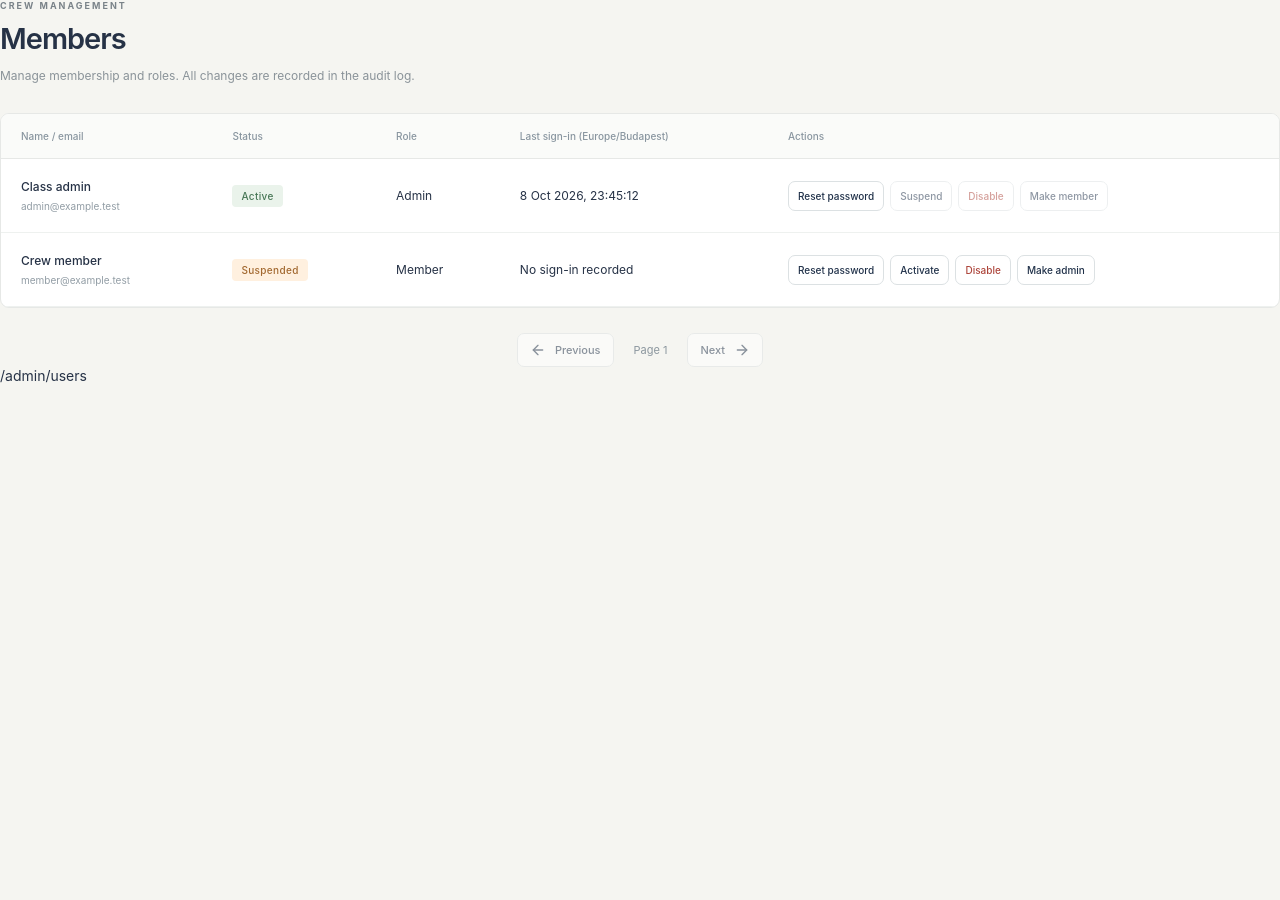
Test: Admin member credentials and sign-in history › does not submit invalid passwords (Test-only-new-password)
Click the button "Reset password" in the row of "Crew member" at (836, 270), box [788,255,884,285]
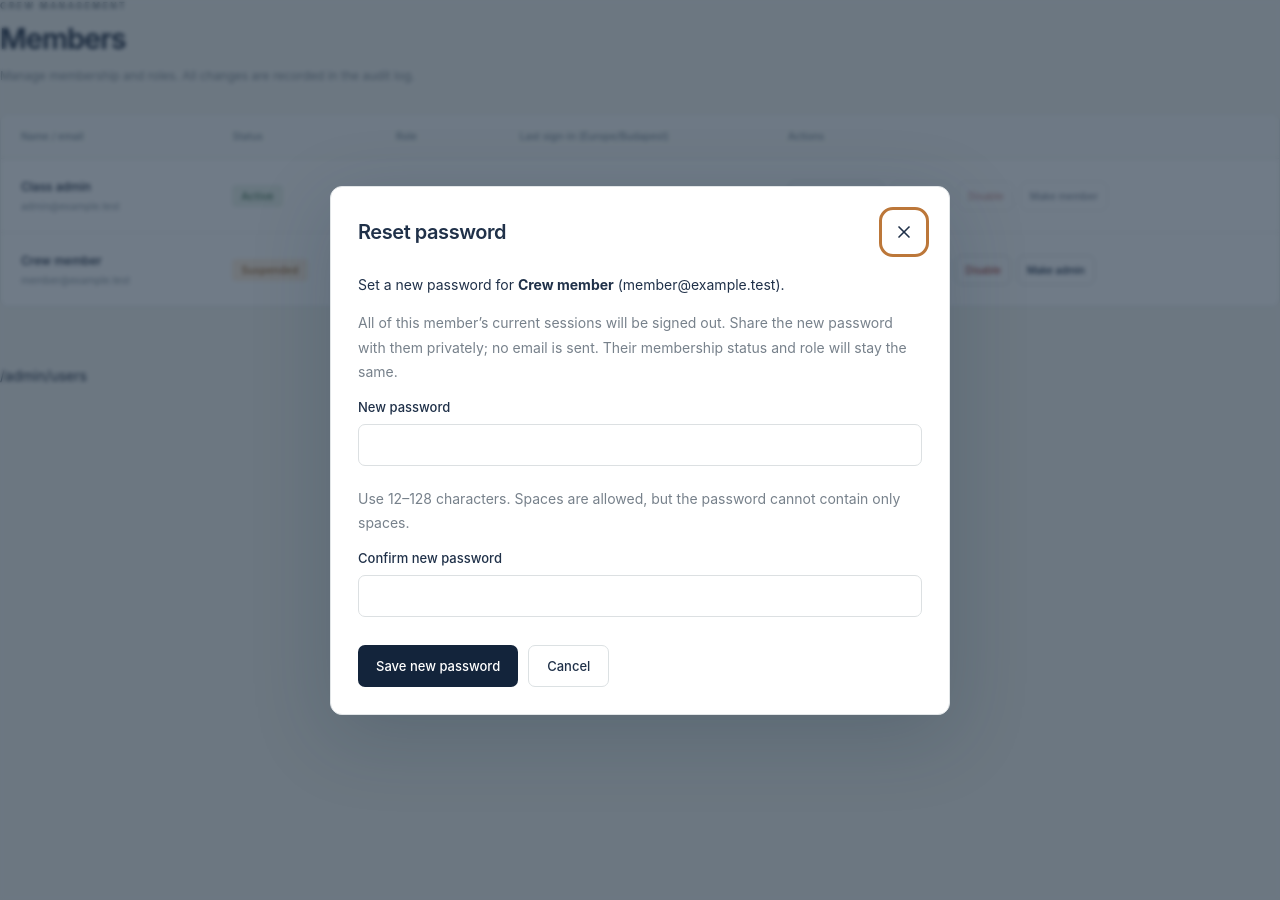
Type "Test-only-new-password" into the password field labelled "New password" at (640, 444), box [358,424,922,466]
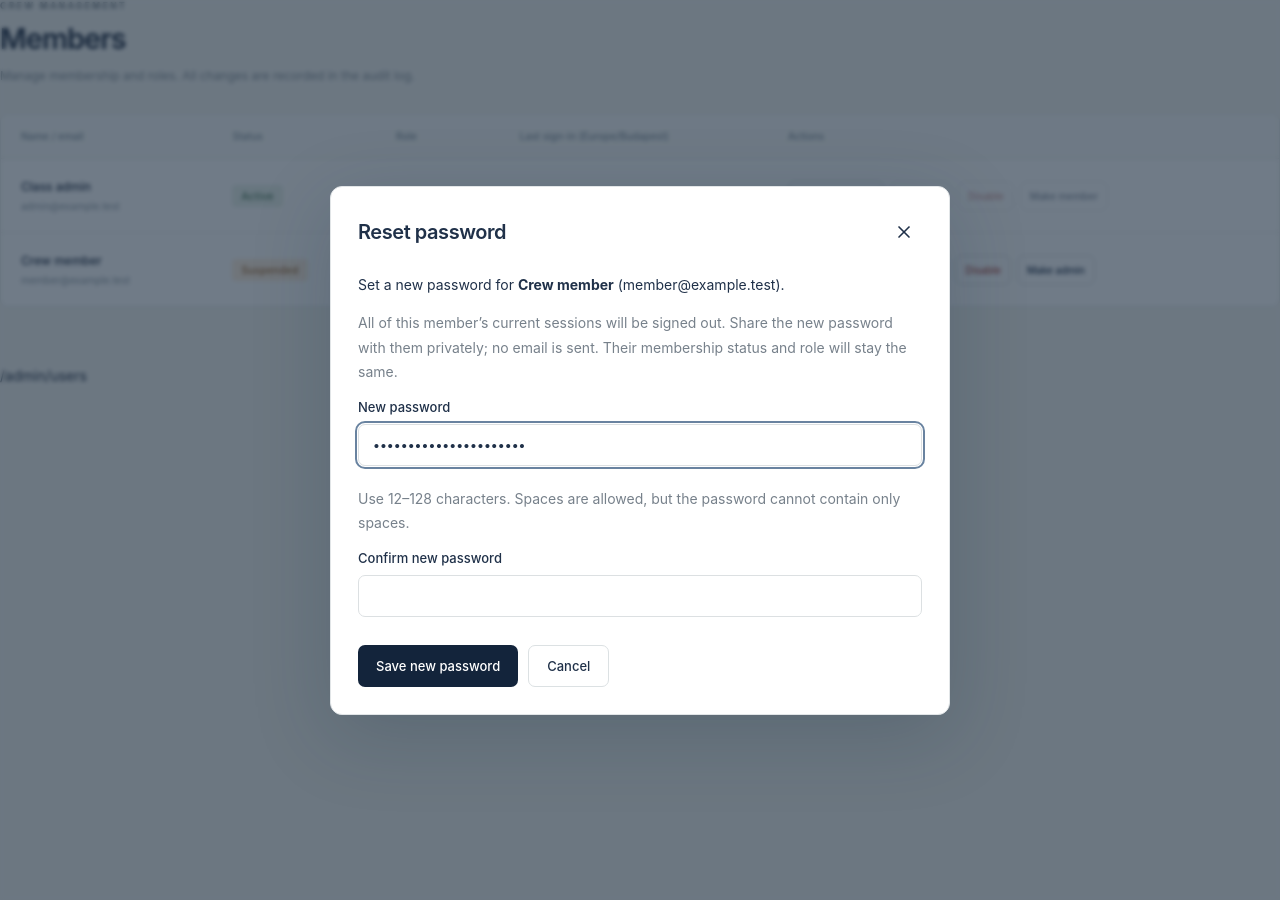
Type "Different-test-password" into the password field labelled "Confirm new password" at (640, 596), box [358,574,922,616]
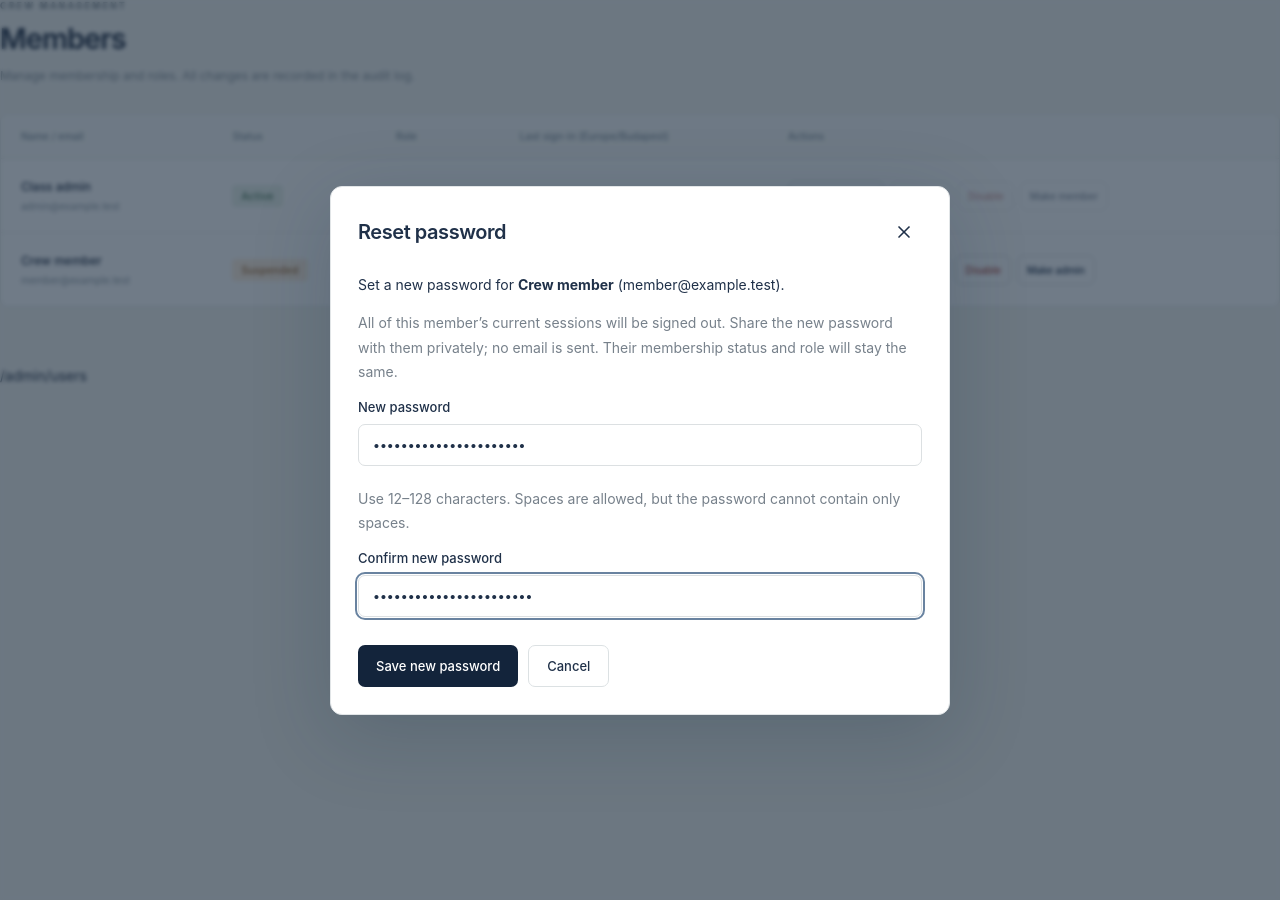
Click the button "Save new password" at (438, 666), box [358,644,518,686]
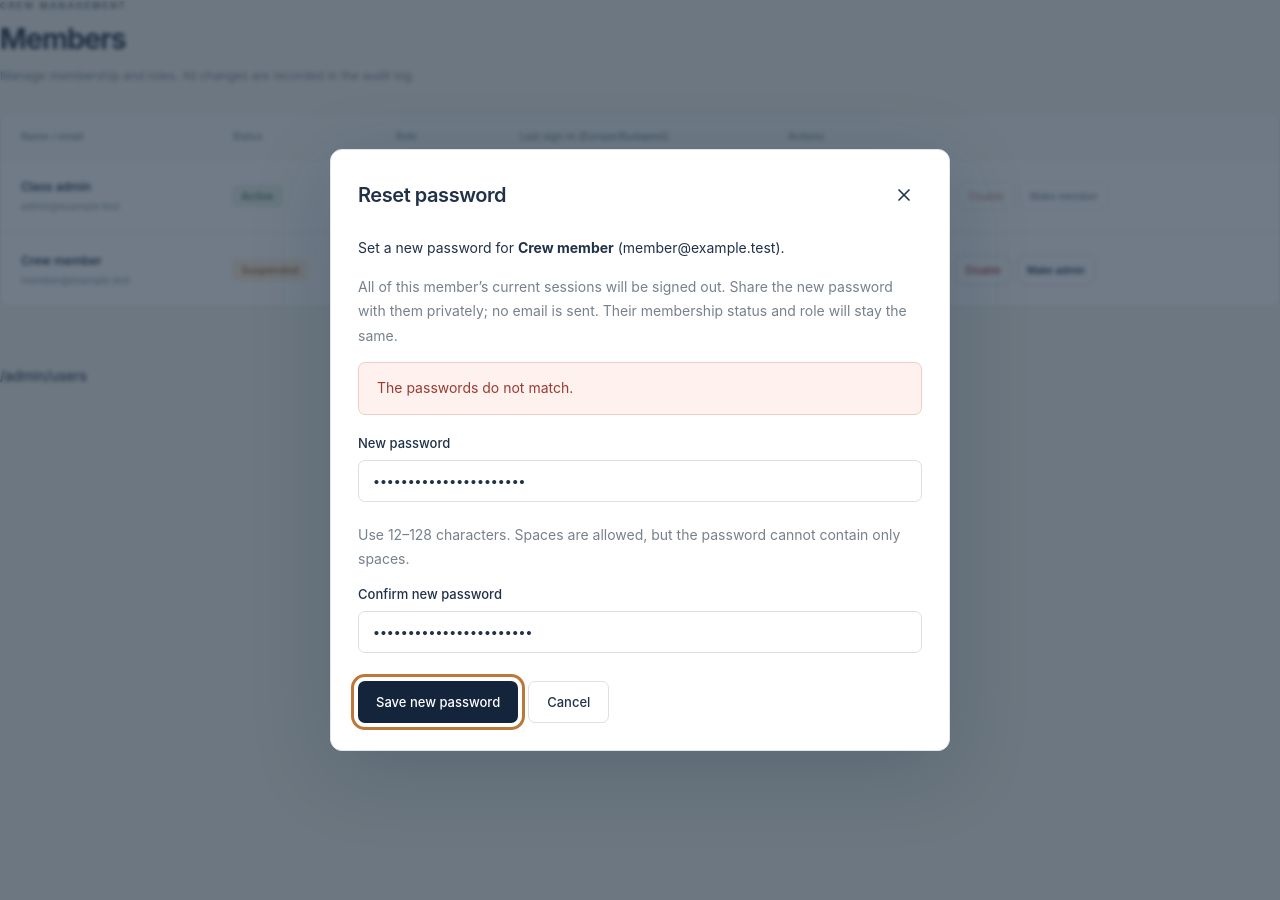
Expected: the message reads "The passwords do not match.", [377,379,573,396]
